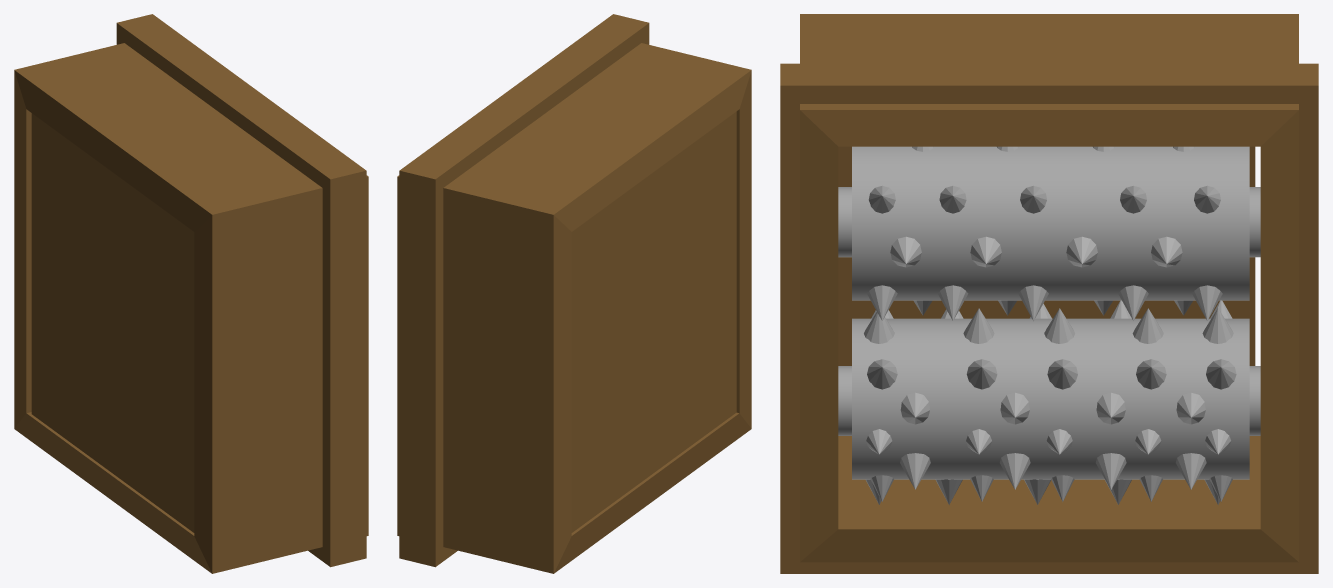
The model's file is shredderUnanimated.fbx.
3 views of the same model, side by side, from view 1: azimuth 30°, elevation 25°; view 2: azimuth 150°, elevation 25°; view 3: azimuth 270°, elevation 25° (orthographic). The views are drawn at different scales.
Parts seen in each view (by area): view 1: pCube81; view 2: pCube81; view 3: pCube81, polySurface93, polySurface184.
Boxes of the visible parts, <box> form: pCube81: <box>14,14,368,573</box>; pCube81: <box>397,14,751,573</box>; pCube81: <box>780,14,1318,573</box>; polySurface93: <box>838,300,1260,504</box>; polySurface184: <box>838,146,1260,320</box>.
Bounding box in the file's own units: 58.04 × 108 × 108.
